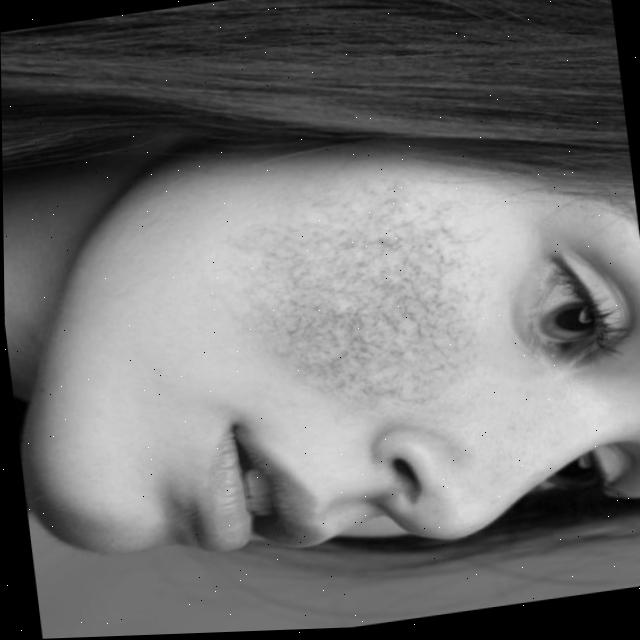Rosacea: (274, 204, 454, 420)
